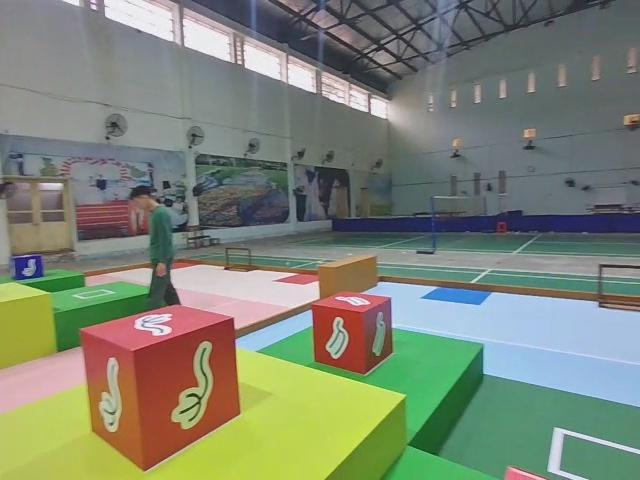R2 Real: (77, 301, 244, 471), (310, 289, 395, 375)
